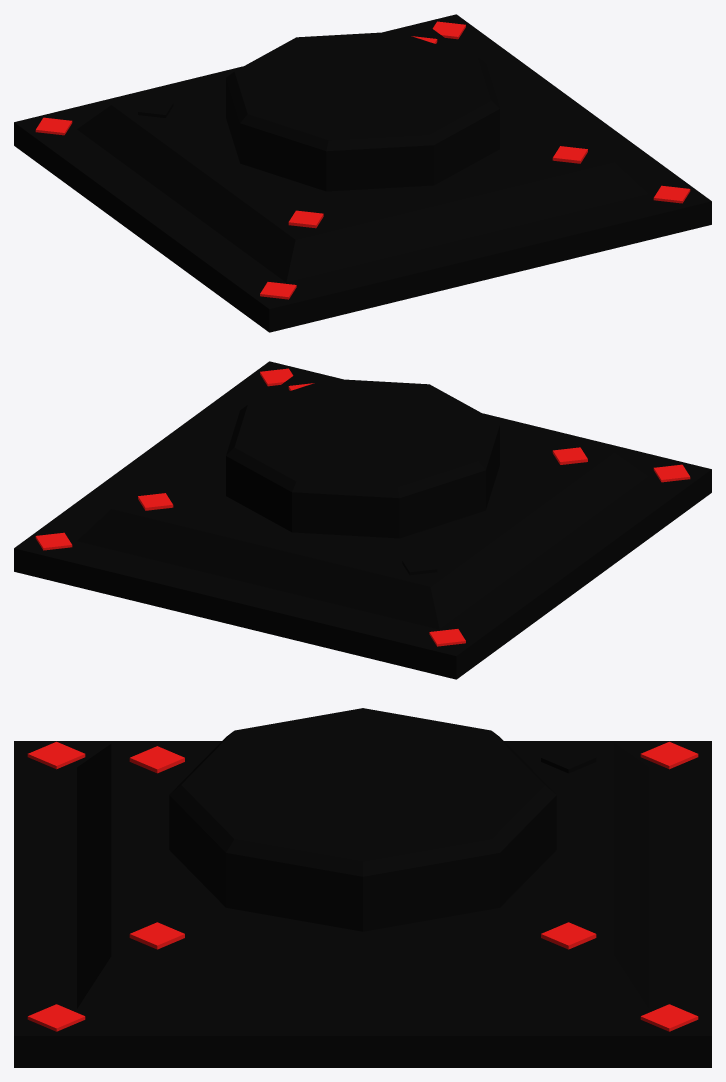
Rendered from Mine.glb.
3 renders of one model, top to bottom at view 1: azimuth 30°, elevation 25°; view 2: azimuth 150°, elevation 25°; view 3: azimuth 270°, elevation 25°, orthographic. The views are drawn at different scales.
Parts seen in each view (by area): view 1: BaseLightingTurret1; view 2: BaseLightingTurret1; view 3: BaseLightingTurret1.
Boxes of the visible parts, x1,y1,x2,y2 form: BaseLightingTurret1: (14,14,711,332); BaseLightingTurret1: (14,361,711,679); BaseLightingTurret1: (14,708,711,1067).
Size of the model in its own units: 3.53 by 0.7559 by 3.53.
